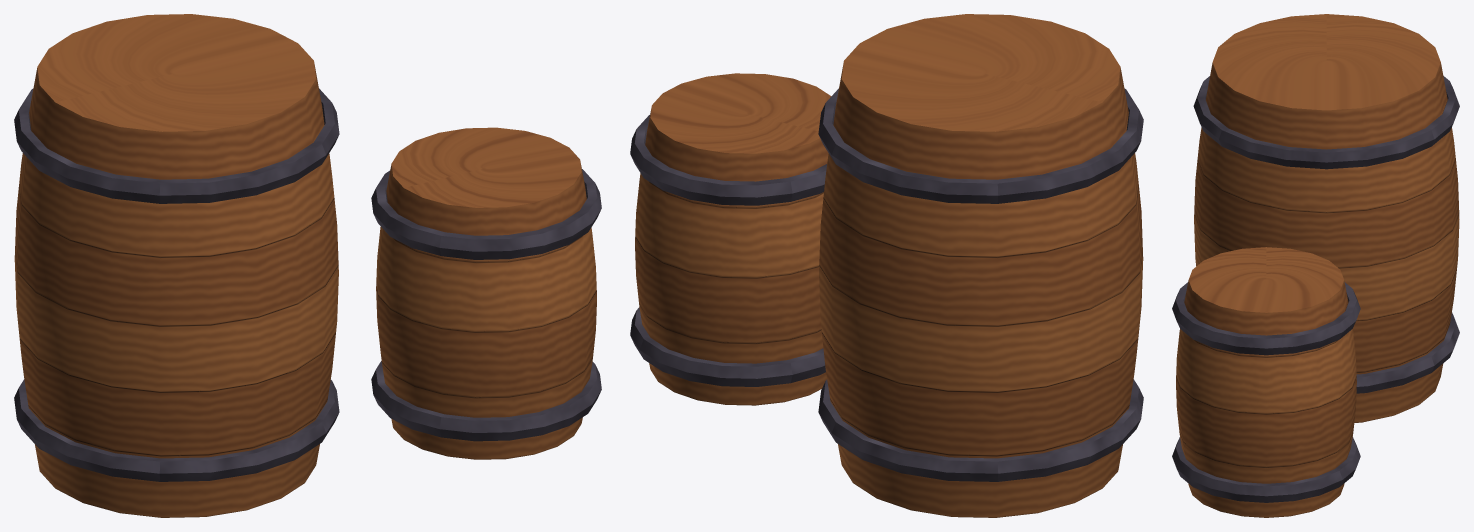
The model's file is GIN_UG_Barrels.fbx.
3 views of the same model, side by side, from view 1: azimuth 30°, elevation 25°; view 2: azimuth 150°, elevation 25°; view 3: azimuth 270°, elevation 25° (orthographic). The views are drawn at different scales.
Parts seen in each view (by area): view 1: GIN_UG_Barrels; view 2: GIN_UG_Barrels; view 3: GIN_UG_Barrels.
Boxes of the visible parts, box(x1,y1,x2,y2) form: GIN_UG_Barrels: box(14, 14, 601, 517); GIN_UG_Barrels: box(630, 14, 1143, 517); GIN_UG_Barrels: box(1172, 14, 1459, 517).
Bounding box in the file's own units: 1.6 × 1.15 × 0.9545.
